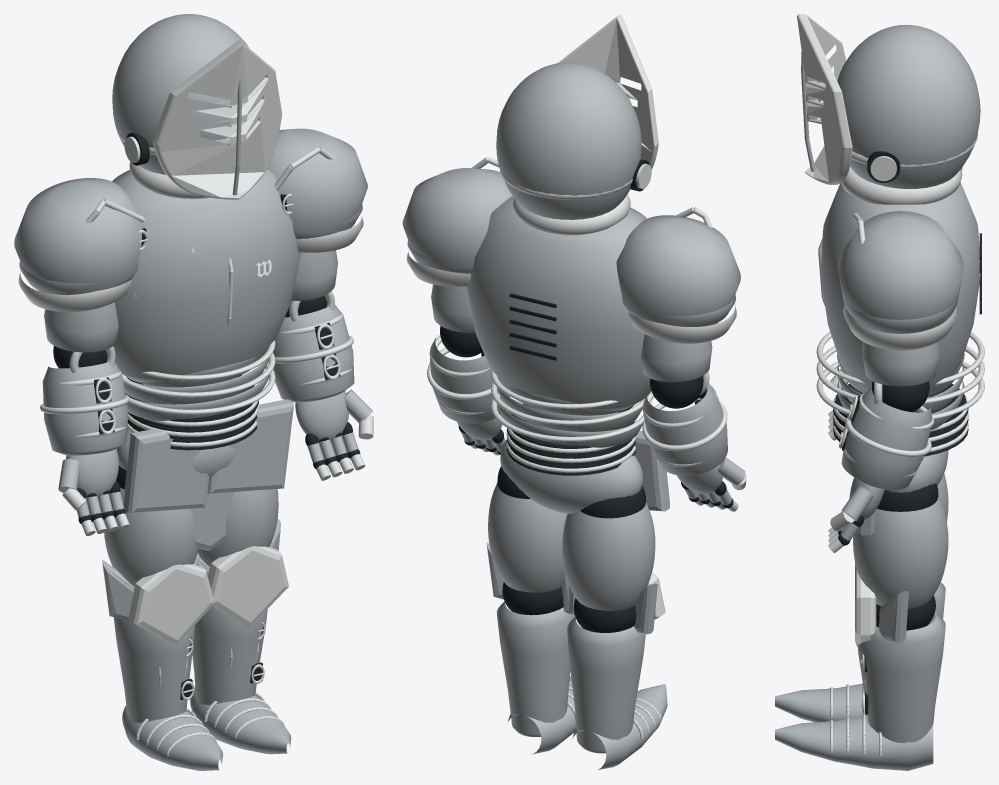
Rendered from engineer-mechanica-concept.glb.
3 views of the same model, side by side, from view 1: azimuth 30°, elevation 25°; view 2: azimuth 150°, elevation 25°; view 3: azimuth 270°, elevation 25° (orthographic). The views are drawn at different scales.
Parts seen in each view (by area): view 1: Mechanica Knight — reference reconstruction; view 2: Mechanica Knight — reference reconstruction; view 3: Mechanica Knight — reference reconstruction.
Part boxes in pixels (x1,y1,x2,y2): Mechanica Knight — reference reconstruction: (14,14,373,770); Mechanica Knight — reference reconstruction: (402,14,746,769); Mechanica Knight — reference reconstruction: (775,14,984,770).
Size of the model in its own units: 3.09 by 6.47 by 1.67.
Materials: 7 (3 with a texture image).
